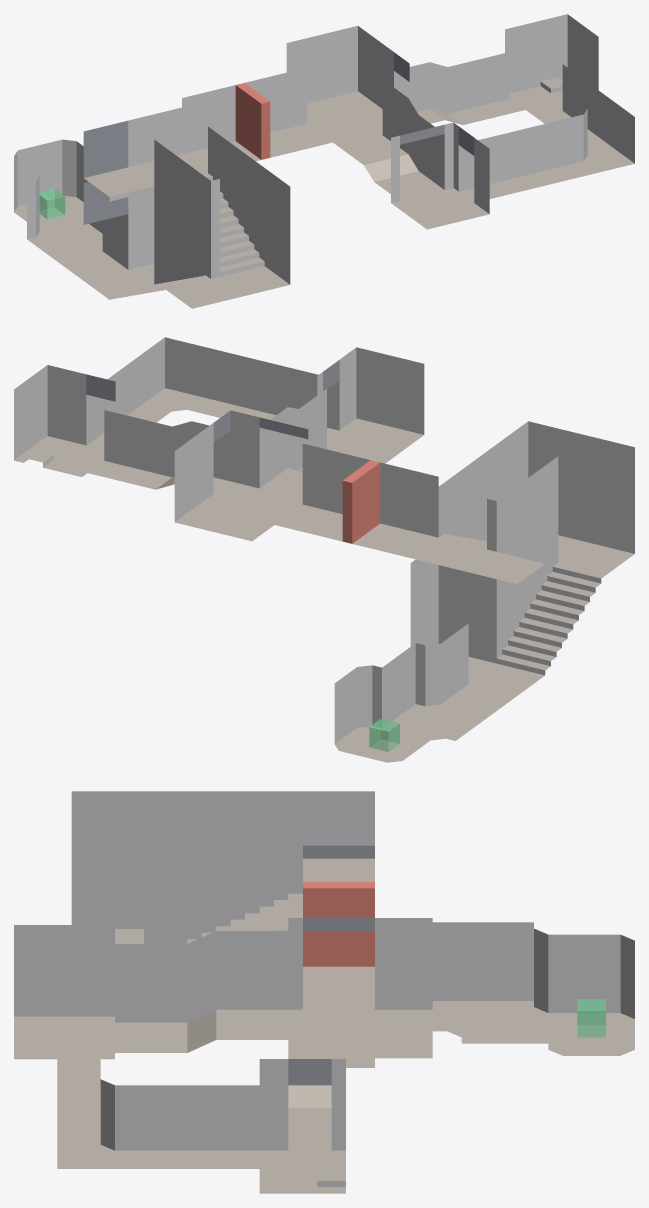
The model's file is habitat_02.glb.
The picture shows the model from 3 angles, top to bottom: view 1: azimuth 30°, elevation 25°; view 2: azimuth 150°, elevation 25°; view 3: azimuth 270°, elevation 25°; orthographic projection. The views are drawn at different scales.
Visible parts, largest first — view 1: room:4, corridor:4, room:1, corridor:1, room:3, corridor:2, corridor:0, room:0, corridor:3, room:2, entities; view 2: room:4, corridor:4, room:1, corridor:1, room:0, corridor:3, room:3, corridor:2, room:2, corridor:0, entities; view 3: room:4, corridor:0, corridor:4, room:1, corridor:3, room:0, room:2, room:3, entities, corridor:1, corridor:2.
Part boxes in pixels (box(x1,y1,x2,y2)): room:4: box(83, 107, 290, 308); corridor:4: box(458, 64, 634, 202); room:1: box(286, 25, 409, 146); corridor:1: box(182, 67, 332, 172); room:3: box(505, 14, 598, 117); corridor:2: box(394, 52, 525, 124); corridor:0: box(338, 79, 444, 200); room:0: box(391, 122, 489, 229); corridor:3: box(27, 176, 128, 280); room:2: box(14, 139, 84, 231); entities: box(39, 83, 270, 219); room:4: box(410, 421, 634, 695); corridor:4: box(86, 337, 339, 449); room:1: box(174, 410, 308, 541); corridor:1: box(275, 443, 438, 557); room:0: box(317, 347, 424, 463); corridor:3: box(382, 623, 516, 740); room:3: box(14, 365, 115, 476); corridor:2: box(88, 410, 230, 493); room:2: box(334, 665, 430, 762); corridor:0: box(259, 389, 326, 498); entities: box(342, 460, 399, 751); room:4: box(71, 791, 374, 1067); corridor:0: box(115, 931, 288, 1052); corridor:4: box(57, 1059, 259, 1168); room:1: box(288, 918, 432, 1058); corridor:3: box(432, 922, 548, 1043); room:0: box(14, 925, 114, 1059); room:2: box(548, 934, 634, 1055); room:3: box(259, 1059, 345, 1193); entities: box(303, 882, 605, 1037); corridor:1: box(303, 845, 374, 1009); corridor:2: box(288, 1058, 331, 1150).
Bounding box in the file's own units: 53 × 18 × 43.
